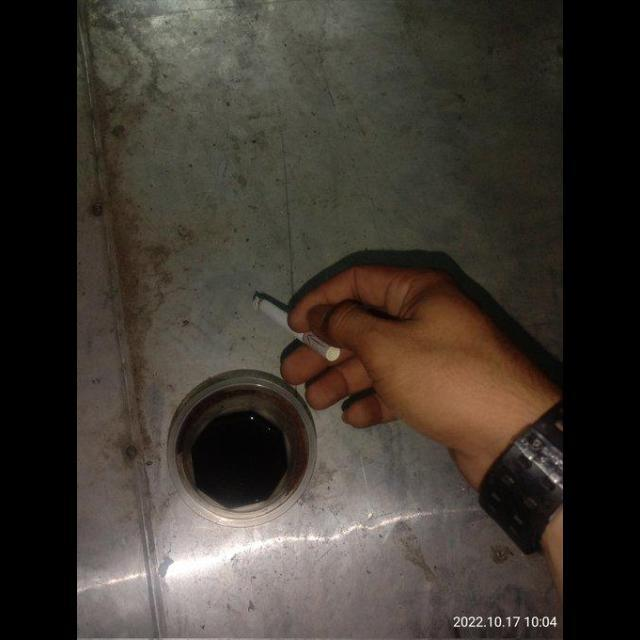rokok: (246, 288, 344, 364)
